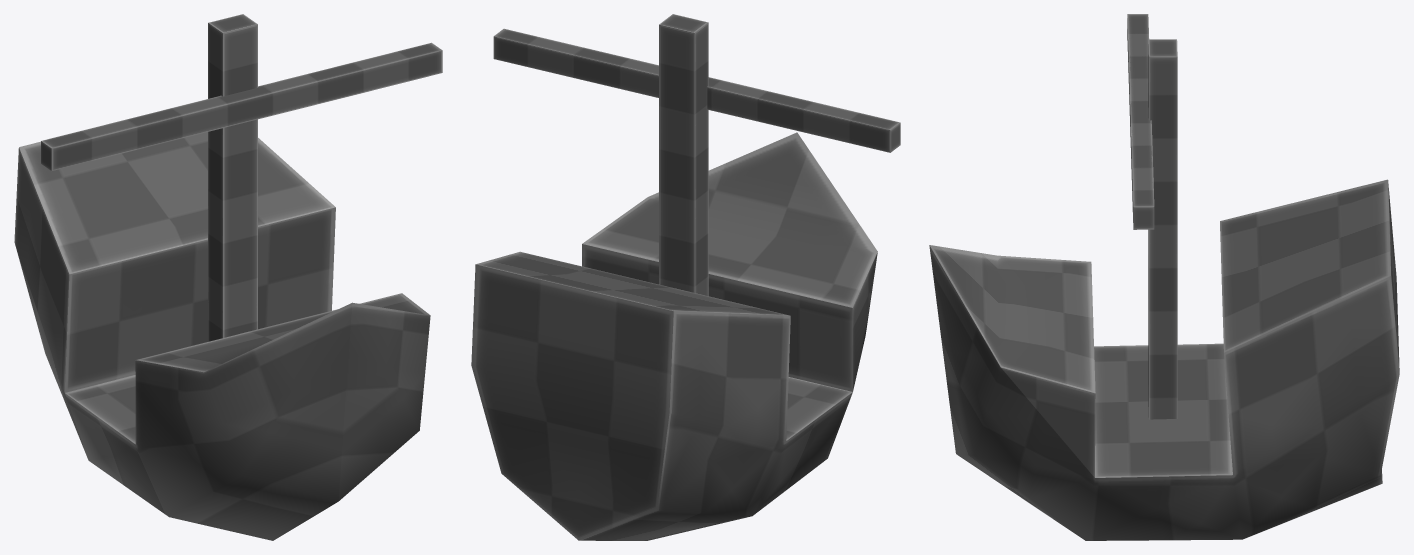
File: boat544.FBX
3 views of the same model, side by side, from view 1: azimuth 30°, elevation 25°; view 2: azimuth 150°, elevation 25°; view 3: azimuth 270°, elevation 25° (orthographic).
Visible parts, largest first — view 1: boat; view 2: boat; view 3: boat.
Boxes of the visible parts, x1=… form: boat: x1=14, y1=14, x2=442, y2=540; boat: x1=471, y1=14, x2=900, y2=540; boat: x1=929, y1=14, x2=1399, y2=540.
Size of the model in its own units: 66.51 by 78.78 by 68.47.
